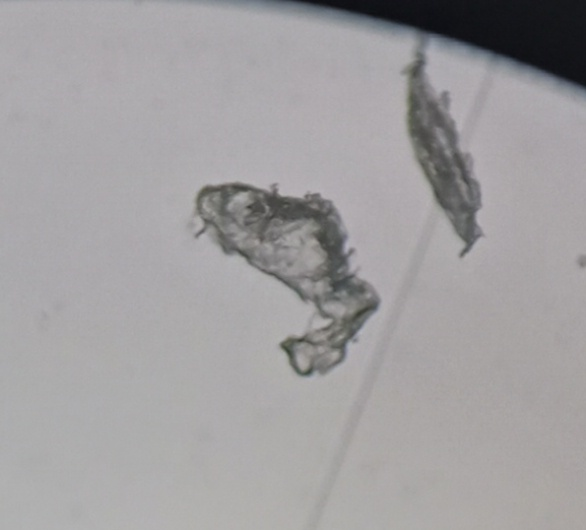microplastic: (191, 180, 386, 380), (401, 46, 489, 264)
